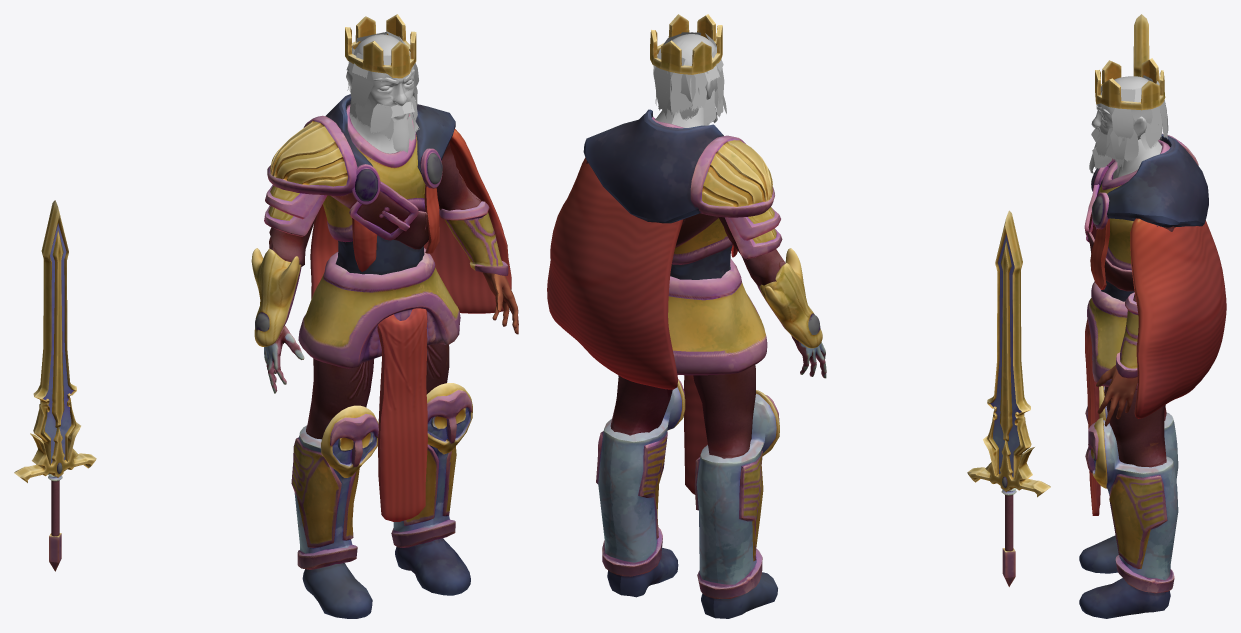
Rendered from King.fbx.
3 views of the same model, side by side, from view 1: azimuth 30°, elevation 25°; view 2: azimuth 150°, elevation 25°; view 3: azimuth 270°, elevation 25° (orthographic). The views are drawn at different scales.
Visible parts, largest first — view 1: LegGuard_Low, LegThing_Low, FrontCloak_Low, Blade_Low, BackCloak_Low, Feet_Low, Paldroun_Low, Legs_Low, Chestpiece_Low, PowerGauntlet_Low, Sash_Low, Gauntlet_Low (+11 smaller); view 2: BackCloak_Low, LegGuard_Low, NeckGuard_Low, LegThing_Low, Legs_Low, Blade_Low, Paldroun_Low, Feet_Low, PowerGauntlet_Low, Crown_Low, FrontCloak_Low, Body_Low (+9 smaller); view 3: BackCloak_Low, LegGuard_Low, NeckGuard_Low, Feet_Low, Legs_Low, LegThing_Low, Crown_Low, Chestpiece_Low, Gauntlet_Low, Hands_Low, FrontCloak_Low, Sash_Low (+13 smaller).
Boxes of the visible parts, left/top/right/bottom form: LegGuard_Low: left=291, top=383, right=472, bottom=569; LegThing_Low: left=298, top=248, right=460, bottom=368; FrontCloak_Low: left=377, top=308, right=427, bottom=521; Blade_Low: left=33, top=200, right=77, bottom=465; BackCloak_Low: left=310, top=129, right=511, bottom=313; Feet_Low: left=302, top=538, right=470, bottom=618; Paldroun_Low: left=267, top=115, right=357, bottom=195; Legs_Low: left=306, top=344, right=449, bottom=439; Chestpiece_Low: left=323, top=104, right=425, bottom=242; PowerGauntlet_Low: left=251, top=248, right=301, bottom=346; Sash_Low: left=330, top=181, right=428, bottom=249; Gauntlet_Low: left=439, top=201, right=508, bottom=275; BackCloak_Low: left=547, top=157, right=683, bottom=389; LegGuard_Low: left=596, top=379, right=779, bottom=599; NeckGuard_Low: left=583, top=109, right=723, bottom=223; LegThing_Low: left=668, top=258, right=767, bottom=375; Legs_Low: left=610, top=365, right=755, bottom=458; Blade_Low: left=986, top=210, right=1031, bottom=479; Paldroun_Low: left=690, top=135, right=774, bottom=217; Feet_Low: left=607, top=547, right=777, bottom=618; PowerGauntlet_Low: left=757, top=248, right=822, bottom=348; Crown_Low: left=650, top=14, right=722, bottom=74; FrontCloak_Low: left=684, top=375, right=707, bottom=494; Body_Low: left=655, top=106, right=732, bottom=279; BackCloak_Low: left=1130, top=218, right=1226, bottom=418; LegGuard_Low: left=1085, top=386, right=1178, bottom=593; NeckGuard_Low: left=1099, top=134, right=1208, bottom=227; Feet_Low: left=1079, top=535, right=1170, bottom=618; Legs_Low: left=1104, top=386, right=1166, bottom=467; LegThing_Low: left=1087, top=281, right=1137, bottom=390; Crown_Low: left=1095, top=58, right=1165, bottom=110; Chestpiece_Low: left=1096, top=140, right=1170, bottom=270; Gauntlet_Low: left=1116, top=292, right=1138, bottom=378; Hands_Low: left=1096, top=365, right=1137, bottom=426; FrontCloak_Low: left=1085, top=319, right=1100, bottom=515; Sash_Low: left=1084, top=184, right=1134, bottom=291.
Bounding box in the file's own units: 12.75 × 13.79 × 3.56.
